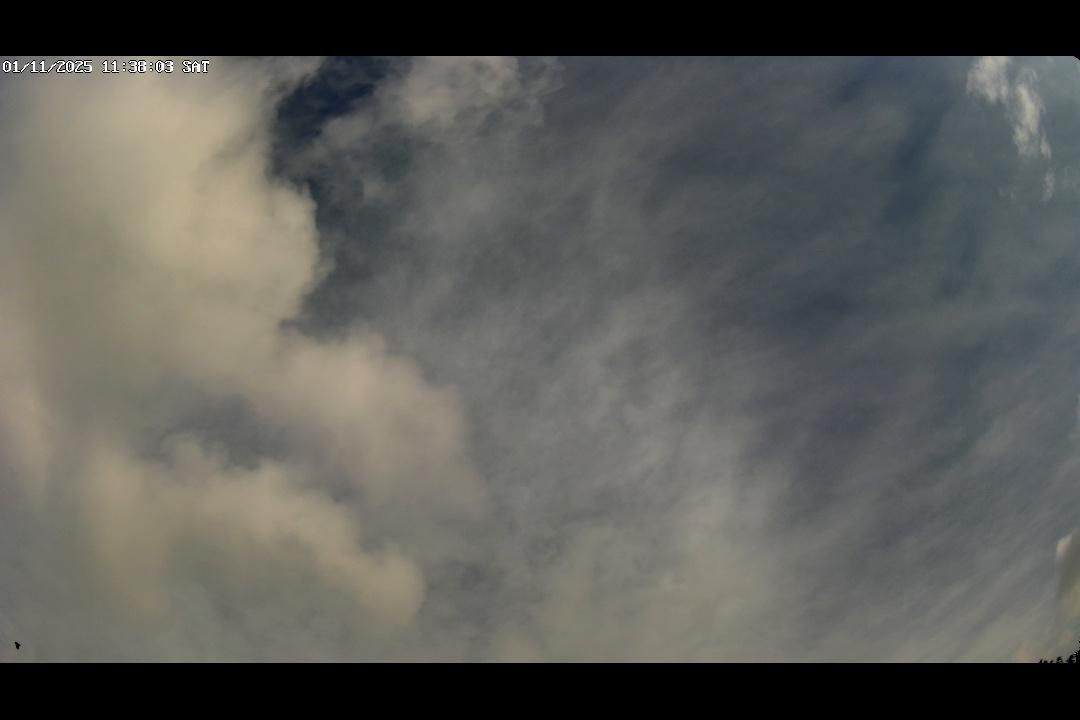WildLife: (9, 637, 31, 653)
